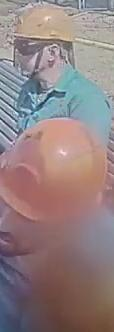goggles: (10, 38, 52, 55)
helmet: (0, 119, 105, 226), (11, 4, 75, 42)
vest: (0, 254, 114, 332), (16, 67, 111, 148)
